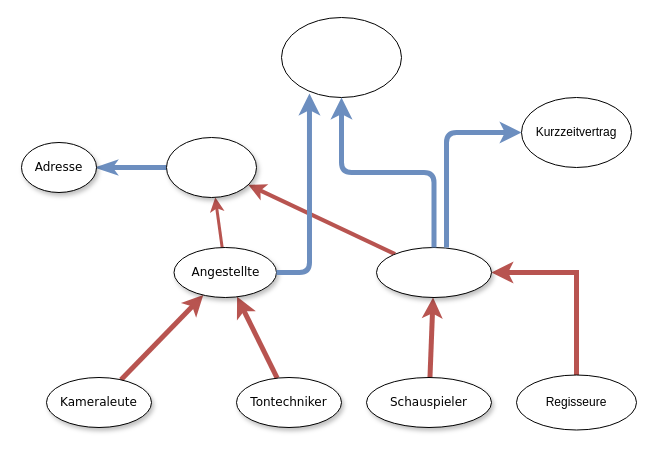
Some shapes in this 654 by 452 pixel diagram are drawn without their labels. The shapes that lost their labels are listed below. From the top down, each one's centre as x and y in pixels, then its label:
pixel 341 57: Projekt
pixel 212 168: Personen
pixel 435 273: Selbstständig
